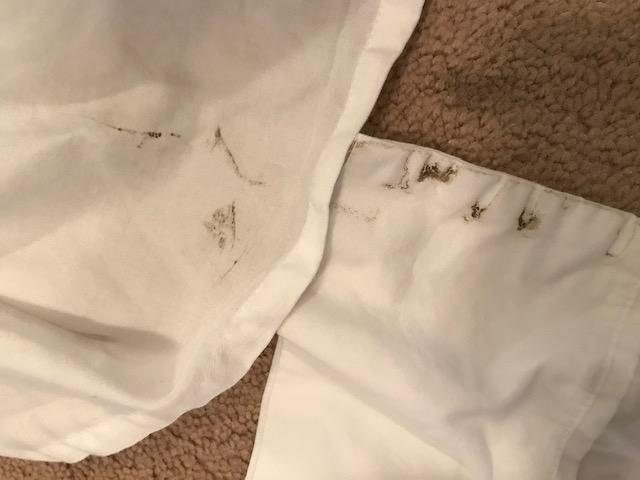gun: (395, 154, 458, 197), (205, 199, 242, 246), (463, 192, 502, 228), (513, 206, 543, 236)
